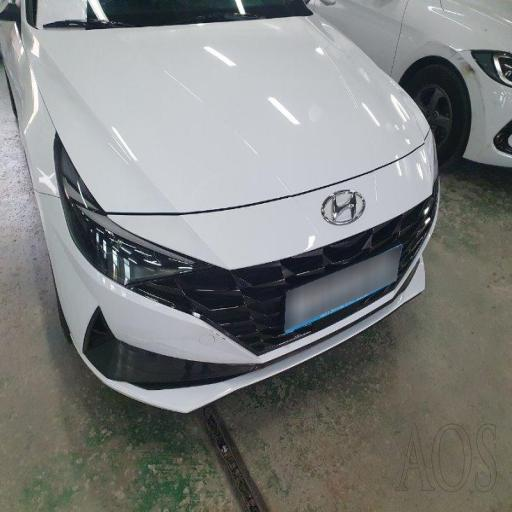scratch: (30, 33, 413, 223)
